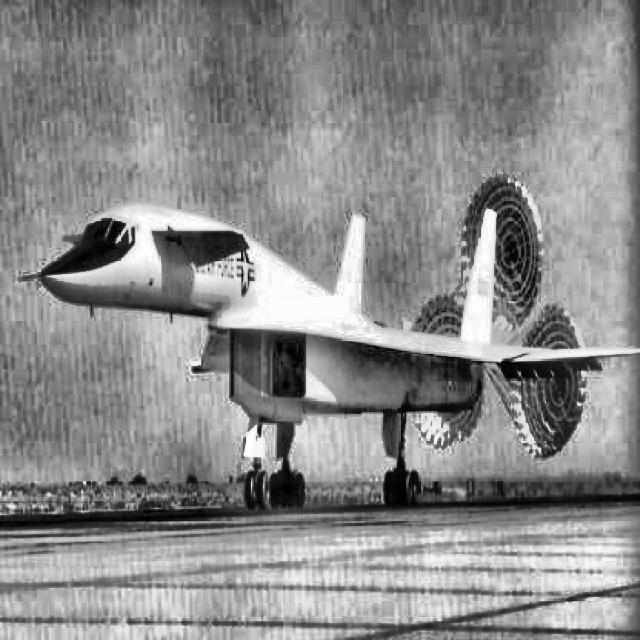XB70: (17, 202, 640, 510)
